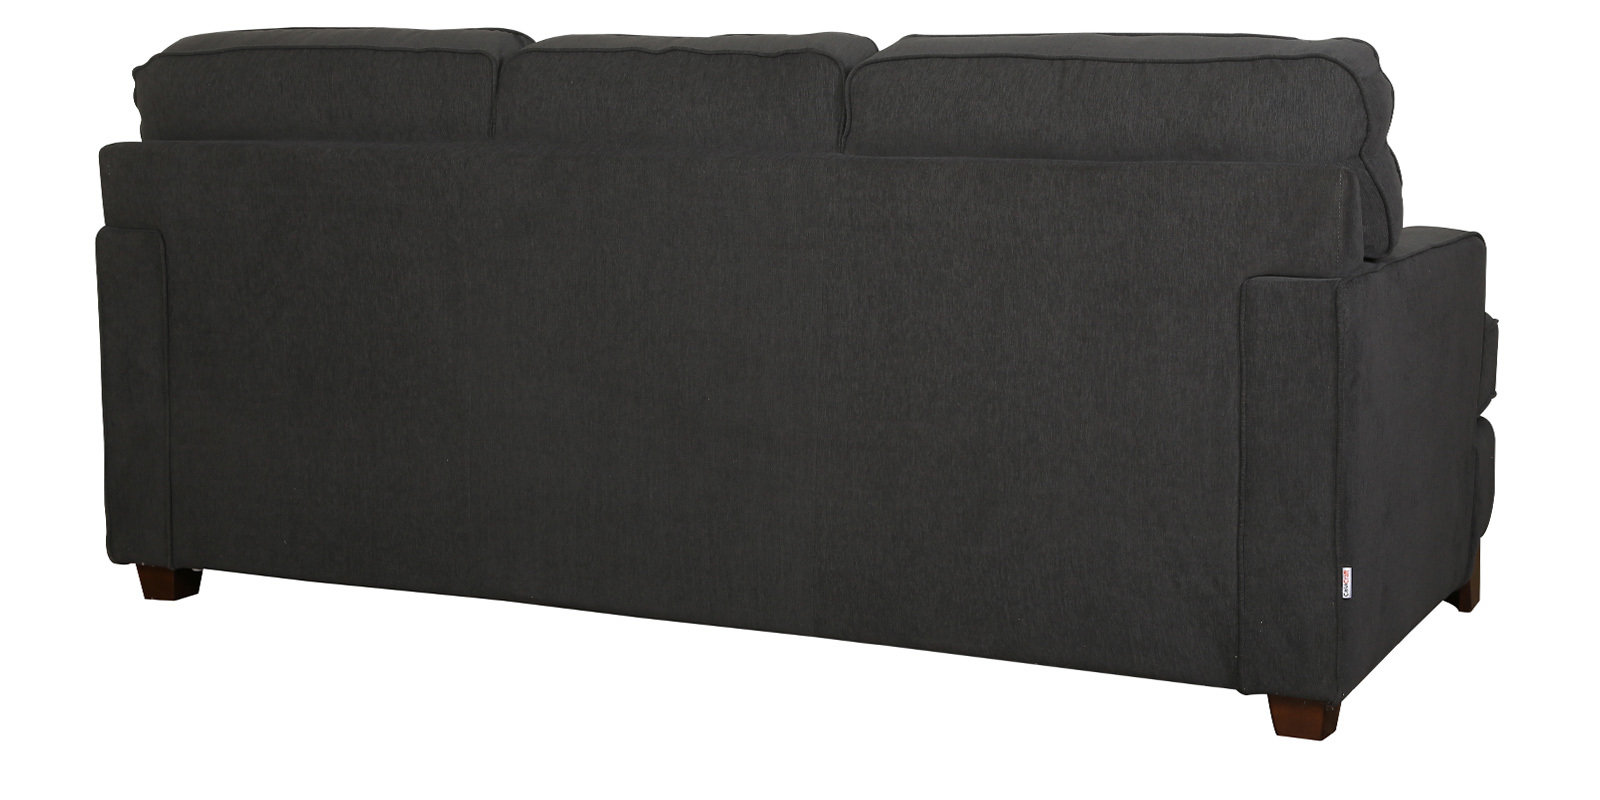Parana Three Seater Sofa in Charcoal Grey Color by CasaCraft: (95, 26, 1502, 741)
